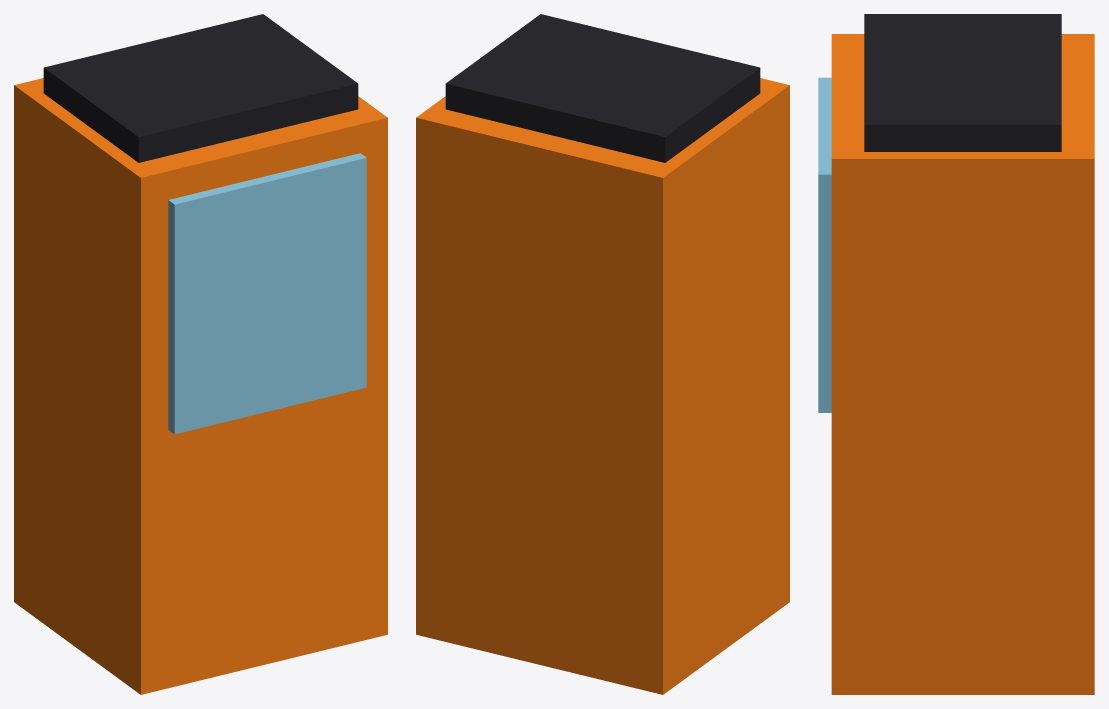
File: newspaper_box.glb
3 views of the same model, side by side, from view 1: azimuth 30°, elevation 25°; view 2: azimuth 150°, elevation 25°; view 3: azimuth 270°, elevation 25° (orthographic). The views are drawn at different scales.
Visible parts, largest first — view 1: newspaper_box; view 2: newspaper_box; view 3: newspaper_box.
Boxes of the visible parts, <box> form: newspaper_box: <box>14,14,387,694</box>; newspaper_box: <box>416,14,789,694</box>; newspaper_box: <box>818,14,1094,694</box>.
Bounding box in the file's own units: 0.45 × 0.945 × 0.42.
